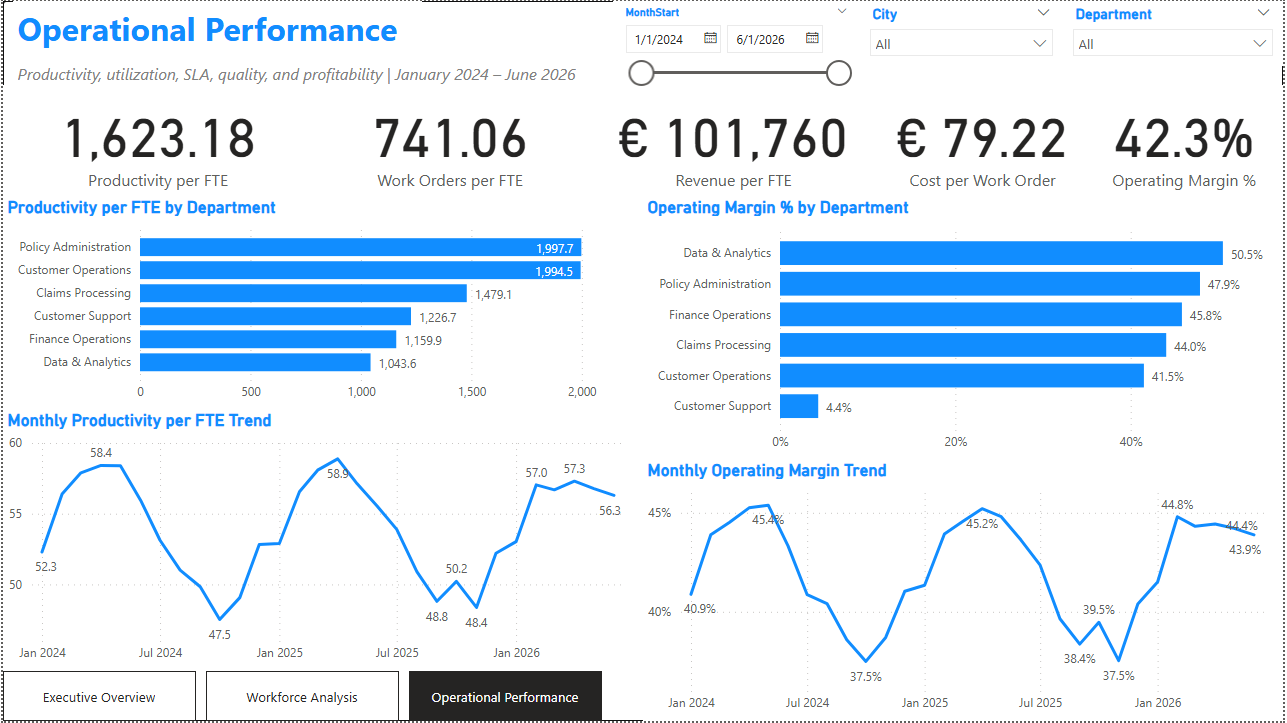

The page's visual inventory and layout, read from the dashboard file:
{"tool":"powerbi","page":{"name":"Operational Performance","canvas":[1280,720],"ordinal":2},"visuals":[{"type":"textbox","box":[10,0,409,57],"z":0},{"type":"textbox","box":[10,57,600,54],"z":1000},{"type":"card","fields":{"Values":["FactOperations.Productivity per FTE"]},"box":[0,84,310,112],"z":2000},{"type":"card","fields":{"Values":["FactOperations.Work Orders per FTE"]},"box":[310,84,274,112],"z":3000},{"type":"card","fields":{"Values":["FactOperations.Revenue per FTE"]},"box":[584,84,293,112],"z":4000},{"type":"card","fields":{"Values":["FactOperations.Cost per Work Order"]},"box":[877,84,205,112],"z":5000},{"type":"card","fields":{"Values":["FactOperations.Operating Margin %"]},"box":[1082,84,198,112],"z":6000},{"type":"clusteredBarChart","fields":{"Category":["DimDepartment.Department"],"Y":["FactOperations.Productivity per FTE"]},"box":[0,196,640,213],"z":7000},{"type":"clusteredBarChart","fields":{"Category":["DimDepartment.Department"],"Y":["FactOperations.Operating Margin %"]},"box":[640,196,640,263],"z":8000},{"type":"lineChart","title":"Monthly Productivity per FTE Trend","fields":{"Category":["DimDate.MonthStart"],"Y":["FactOperations.Productivity per FTE"]},"box":[0,409,640,261],"z":9000},{"type":"slicer","fields":{"Values":["DimDepartment.Department"]},"box":[1060,0,220,65],"z":10000},{"type":"slicer","fields":{"Values":["DimLocation.City"]},"box":[857,0,203,65],"z":11000},{"type":"lineChart","title":"Monthly Operating Margin Trend","fields":{"Category":["DimDate.MonthStart"],"Y":["FactOperations.Operating Margin %"]},"box":[640,459,640,261],"z":12000},{"type":"slicer","fields":{"Values":["DimDate.MonthStart"]},"box":[610,0,247,111],"z":13000},{"type":"pageNavigator","box":[0,670,600,50],"z":14000}]}

Visuals, with their boxes in screenshot pixels (x1, y1, x2, y2), scaled from the page's 1280x720 canvas onto the 1287x723 screenshot:
textbox: bbox(10, 0, 421, 57)
textbox: bbox(10, 57, 613, 111)
card - FactOperations.Productivity per FTE: bbox(0, 84, 312, 197)
card - FactOperations.Work Orders per FTE: bbox(312, 84, 587, 197)
card - FactOperations.Revenue per FTE: bbox(587, 84, 882, 197)
card - FactOperations.Cost per Work Order: bbox(882, 84, 1088, 197)
card - FactOperations.Operating Margin %: bbox(1088, 84, 1286, 197)
clusteredBarChart - DimDepartment.Department x FactOperations.Productivity per FTE: bbox(0, 197, 644, 411)
clusteredBarChart - DimDepartment.Department x FactOperations.Operating Margin %: bbox(644, 197, 1286, 461)
"Monthly Productivity per FTE Trend" lineChart: bbox(0, 411, 644, 673)
slicer - DimDepartment.Department: bbox(1066, 0, 1286, 65)
slicer - DimLocation.City: bbox(862, 0, 1066, 65)
"Monthly Operating Margin Trend" lineChart: bbox(644, 461, 1286, 722)
slicer - DimDate.MonthStart: bbox(613, 0, 862, 111)
pageNavigator: bbox(0, 673, 603, 722)
